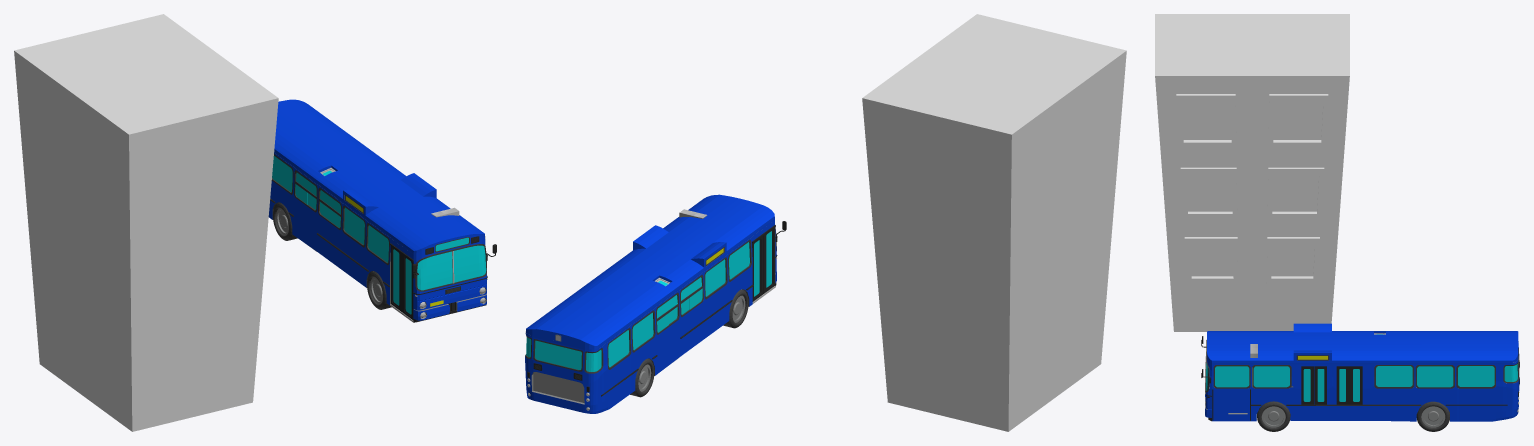
The model's file is mio.fbx.
3 views of the same model, side by side, from view 1: azimuth 30°, elevation 25°; view 2: azimuth 150°, elevation 25°; view 3: azimuth 270°, elevation 25° (orthographic). The views are drawn at different scales.
Visible parts, largest first — view 1: Cubo, Autobus, FrameElements(no edge split).005, FrameElements(no edge split), Cilindro, Cilindro.020; view 2: Cubo, Autobus, FrameElements(no edge split).005, FrameElements(no edge split), Cilindro.020, Cilindro; view 3: Cubo, Autobus, FrameElements(no edge split).005, FrameElements(no edge split), Cilindro.021, Cilindro.022.
Part boxes in pixels (bbox=[...]): Cubo: bbox=[14, 14, 278, 431]; Autobus: bbox=[268, 99, 486, 320]; FrameElements(no edge split).005: bbox=[272, 156, 486, 290]; FrameElements(no edge split): bbox=[270, 198, 496, 322]; Cilindro: bbox=[272, 202, 297, 240]; Cilindro.020: bbox=[367, 271, 391, 309]; Cubo: bbox=[862, 14, 1126, 431]; Autobus: bbox=[525, 194, 776, 413]; FrameElements(no edge split).005: bbox=[526, 242, 749, 371]; FrameElements(no edge split): bbox=[527, 209, 786, 410]; Cilindro.020: bbox=[723, 289, 748, 328]; Cilindro: bbox=[630, 358, 654, 397]; Cubo: bbox=[1155, 14, 1349, 331]; Autobus: bbox=[1205, 323, 1519, 421]; FrameElements(no edge split).005: bbox=[1206, 363, 1517, 390]; FrameElements(no edge split): bbox=[1201, 336, 1519, 421]; Cilindro.021: bbox=[1257, 401, 1290, 431]; Cilindro.022: bbox=[1416, 401, 1449, 431].
Size of the model in its own units: 1617 by 1206 by 1522.
